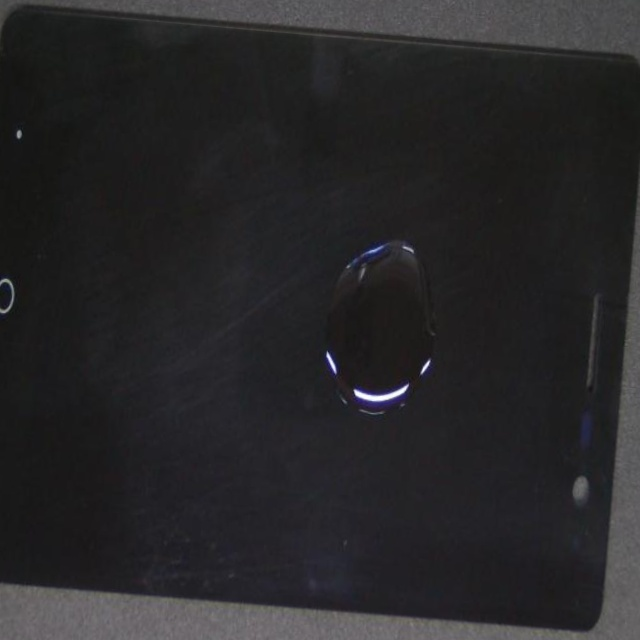oil: (185, 156, 640, 507)
